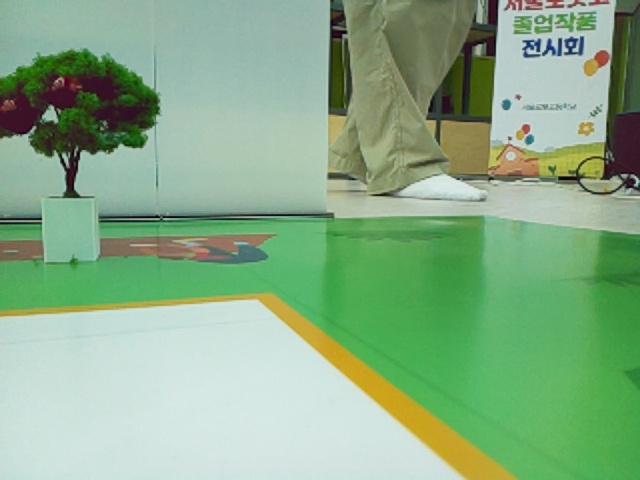apple: (54, 76, 81, 92), (595, 51, 608, 66)
